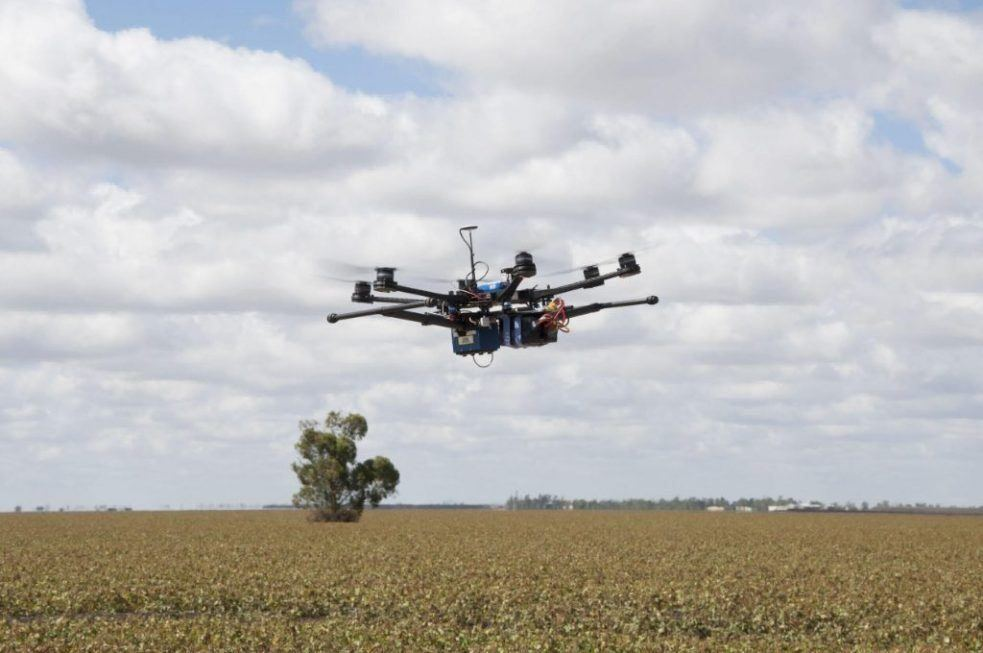drone: (317, 221, 679, 371)
